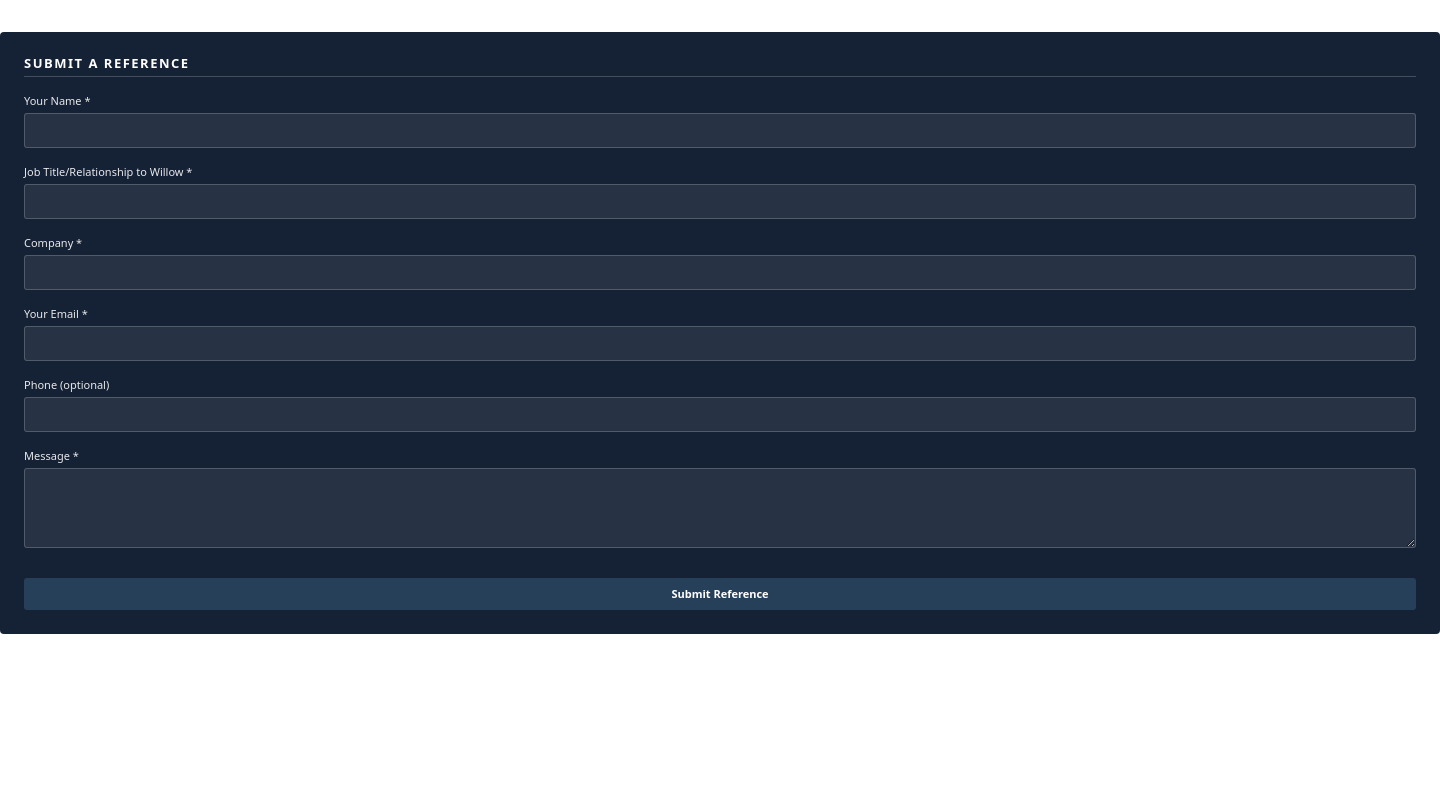
Scenario: shows validation error when submitting empty form
This screenshot has width=1440, height=810.
Click the button "Submit Reference" at (720, 594), box [24,578,1416,610]
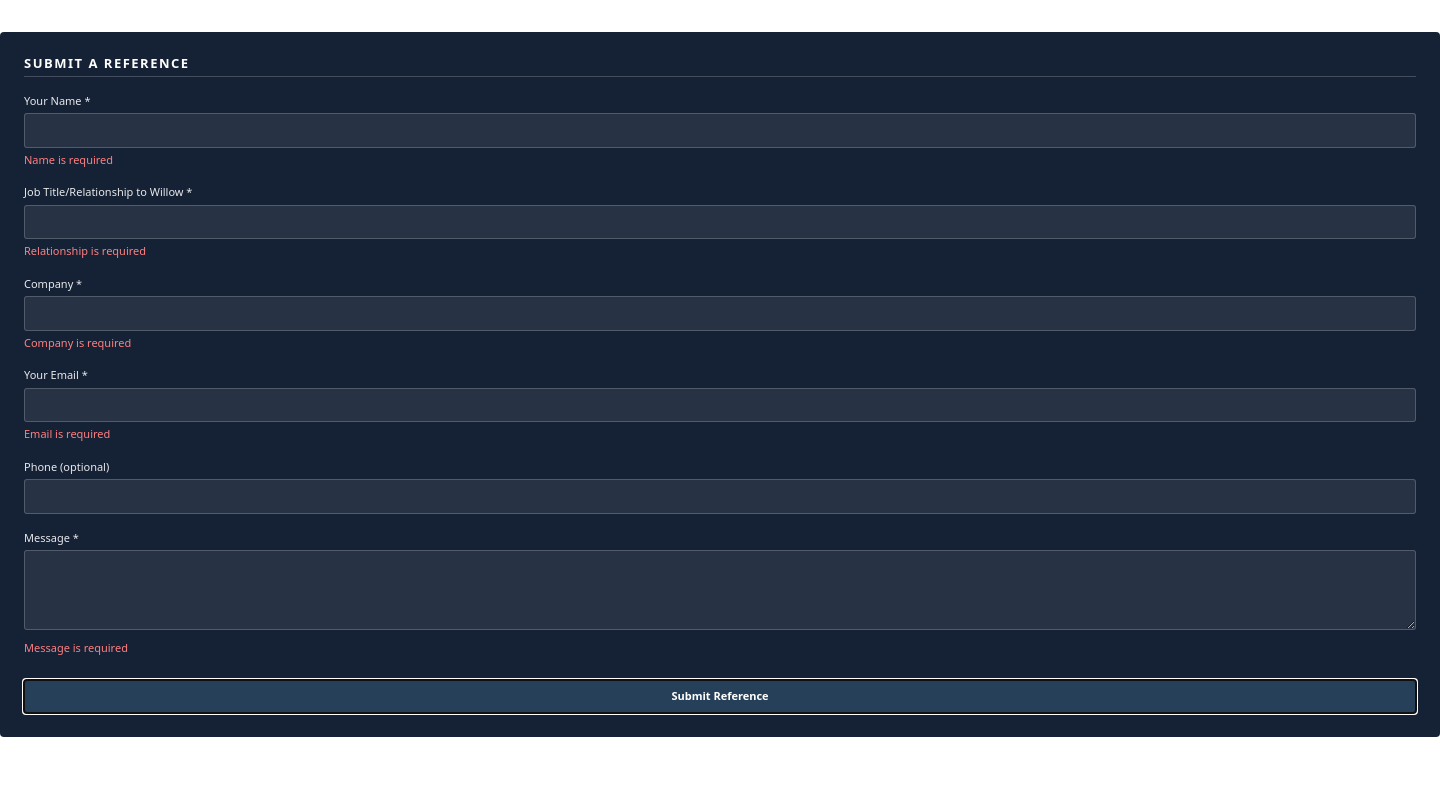
expect the text "Name is required" is shown: met, box [24,152,113,167]
